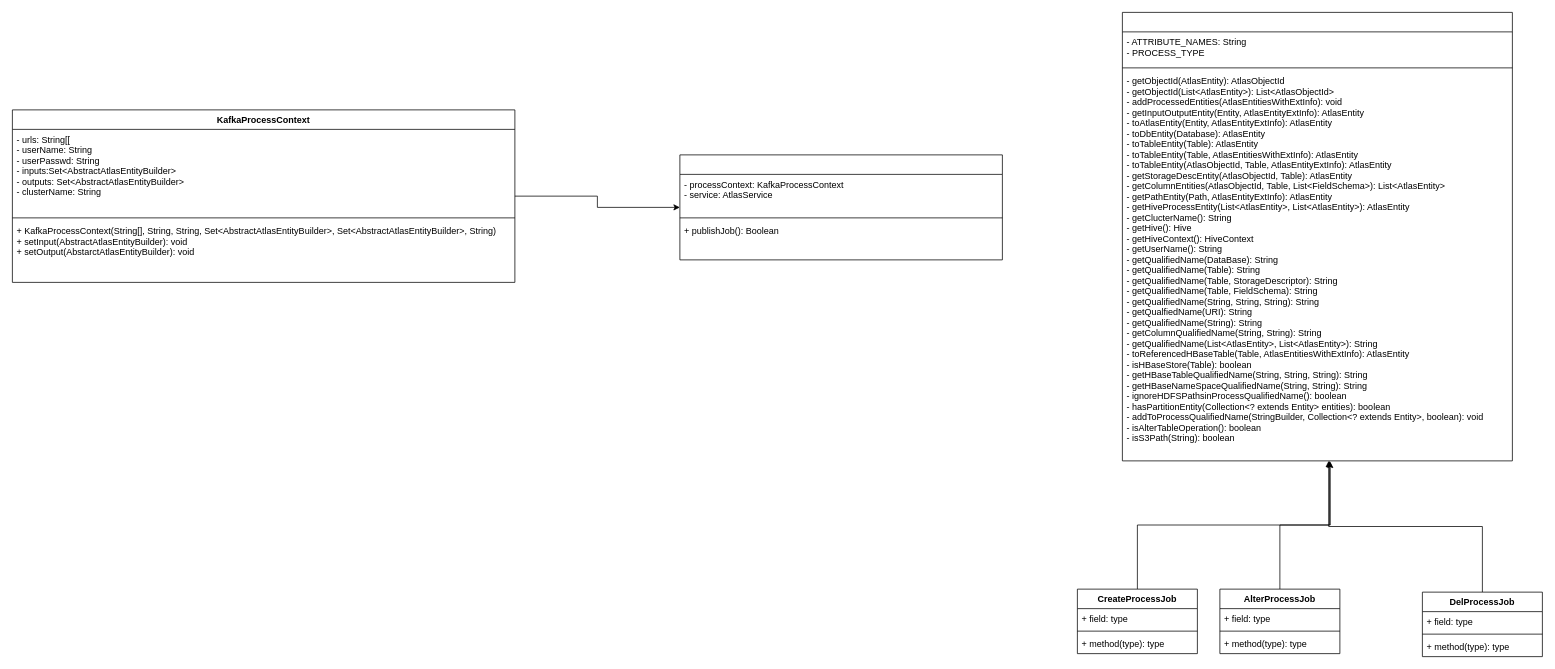
The diagram is 1555 pixels wide and 669 high, and some of its shapes have lost their labels. The box of each missing label's shape, as (x1, y1, x2, y2) in pixels:
BaseEvent: (1122, 12, 1512, 461)
KafkaProcessHook: (679, 154, 1002, 260)
